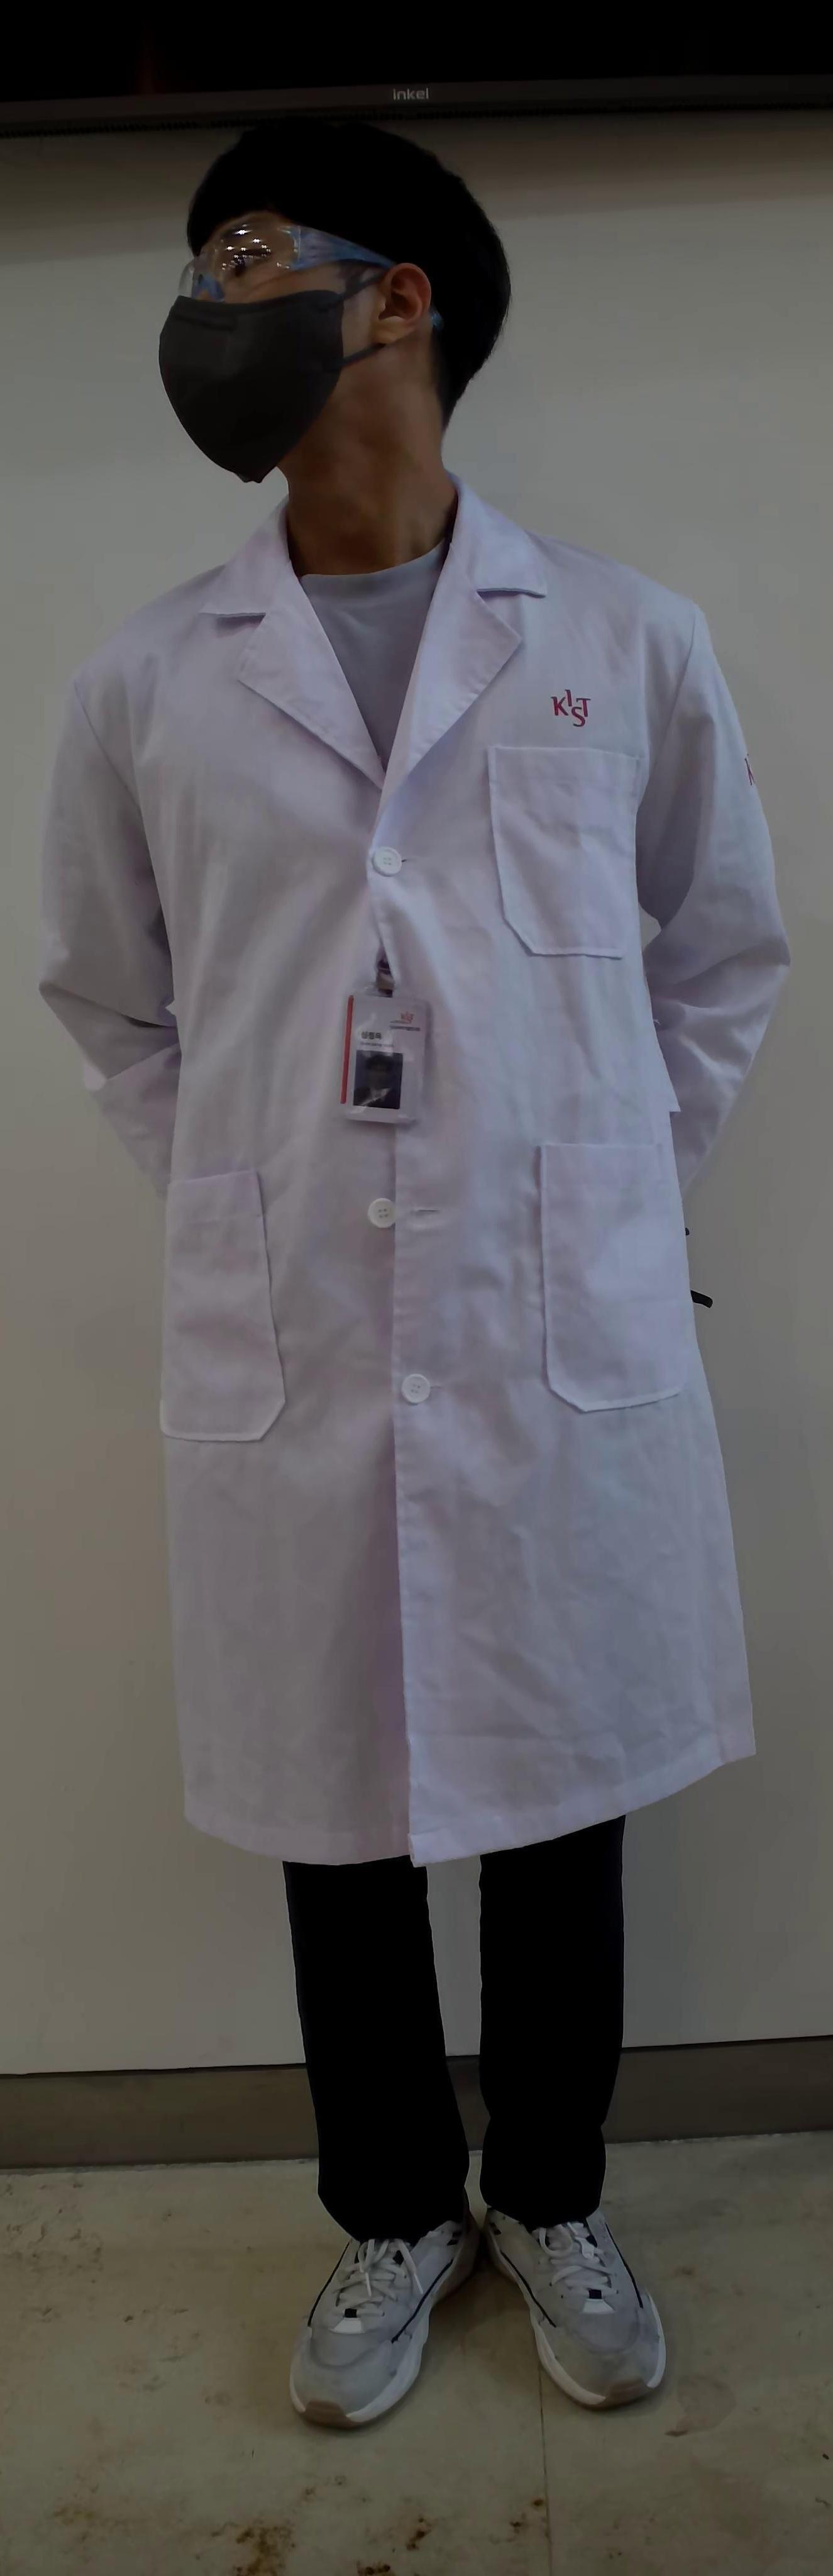lab_coat: (53, 562, 792, 1817)
